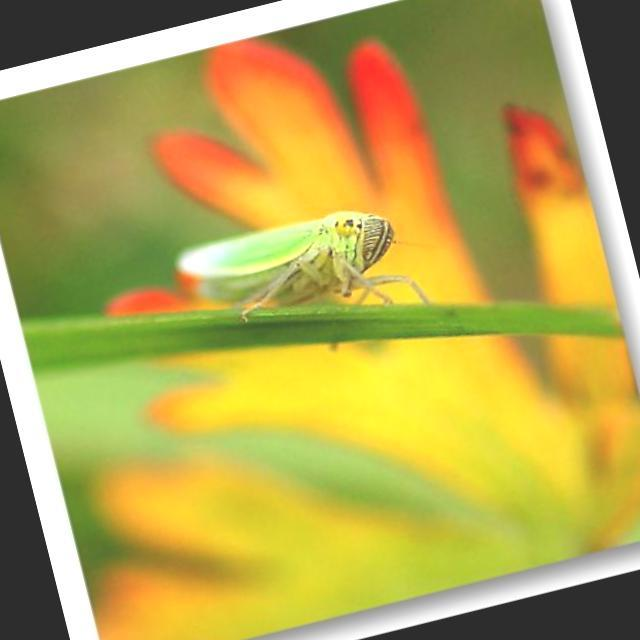green leaf hopper: (177, 211, 428, 318)
